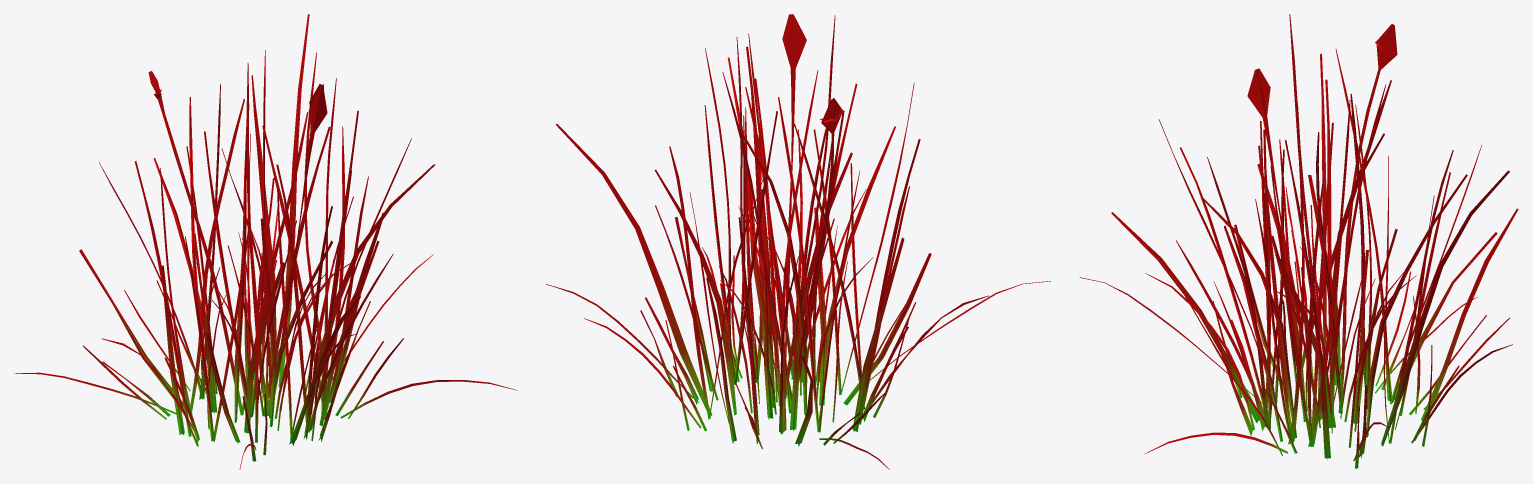
The model's file is ueyoebmia_Var10_LOD0.fbx.
3 views of the same model, side by side, from view 1: azimuth 30°, elevation 25°; view 2: azimuth 150°, elevation 25°; view 3: azimuth 270°, elevation 25° (orthographic). The views are drawn at different scales.
Visible parts, largest first — view 1: _4a5b_Var10_LOD0; view 2: _4a5b_Var10_LOD0; view 3: _4a5b_Var10_LOD0.
Boxes of the visible parts, <box> form: _4a5b_Var10_LOD0: <box>14,14,517,469</box>; _4a5b_Var10_LOD0: <box>546,14,1050,469</box>; _4a5b_Var10_LOD0: <box>1079,14,1518,469</box>.
Size of the model in its own units: 39.76 by 37.77 by 38.04.
